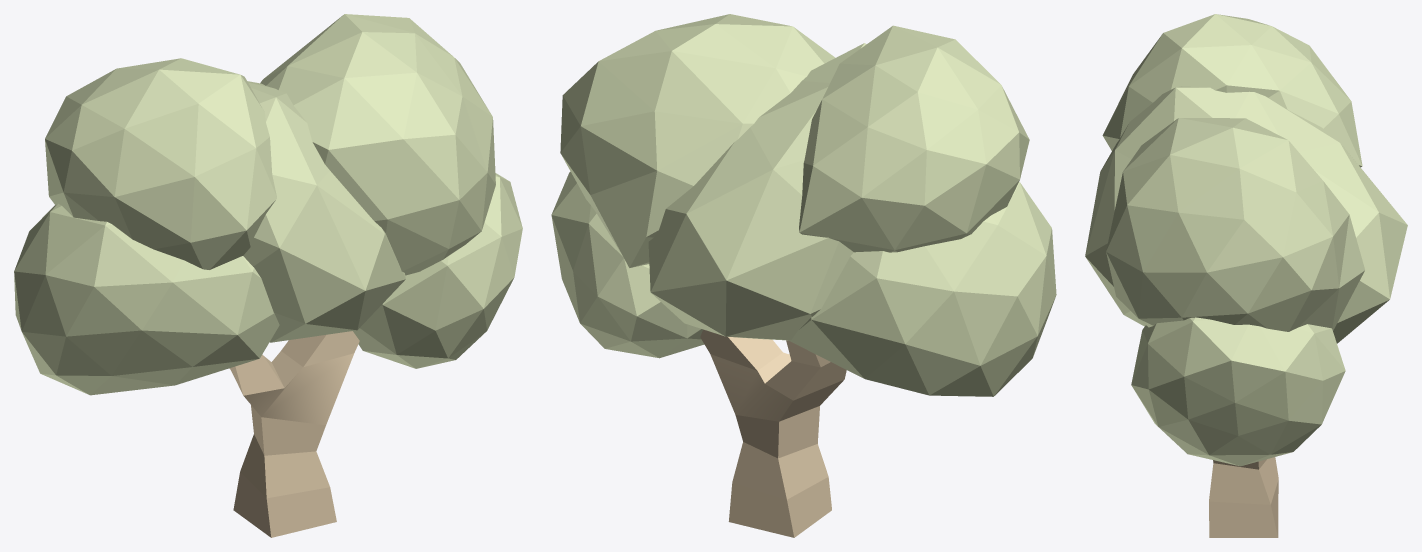
Rendered from OakTree1Light2.fbx.
The picture shows the model from 3 angles, left to right: view 1: azimuth 30°, elevation 25°; view 2: azimuth 150°, elevation 25°; view 3: azimuth 270°, elevation 25°; orthographic projection. The views are drawn at different scales.
Parts seen in each view (by area): view 1: OakTree1; view 2: OakTree1; view 3: OakTree1.
Part boxes in pixels (x1,y1,x2,y2): OakTree1: [14, 14, 522, 537]; OakTree1: [551, 14, 1056, 537]; OakTree1: [1085, 14, 1407, 537].
Size of the model in its own units: 976 by 959 by 628.
